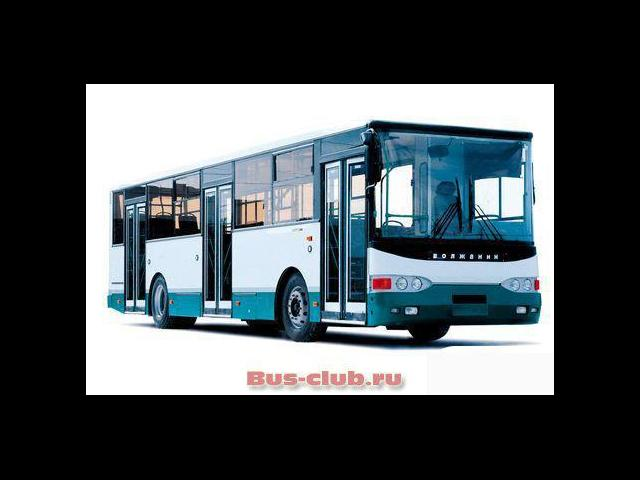bus: (104, 118, 546, 343)
